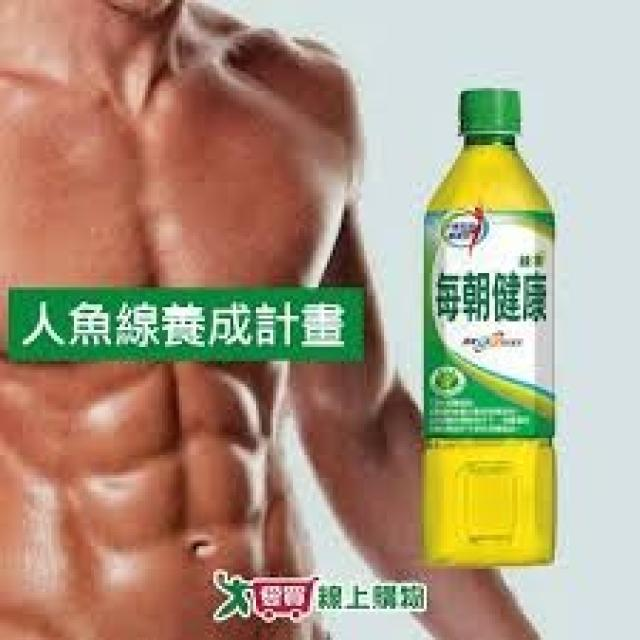MeiChou_GreenTea: (412, 78, 566, 570)
